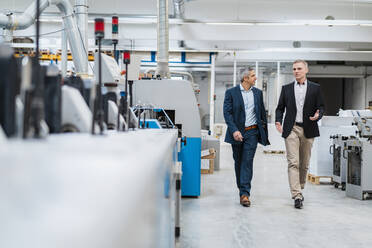person: (276, 59, 324, 209), (225, 68, 269, 207)
